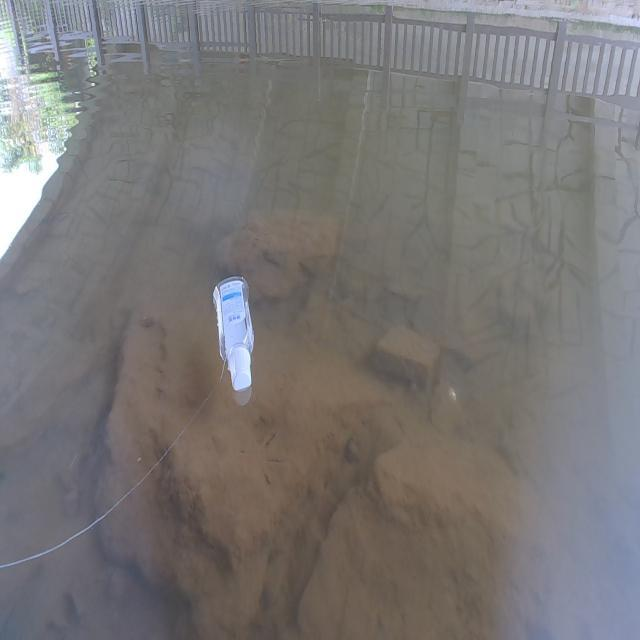garbage: (212, 274, 254, 406)
